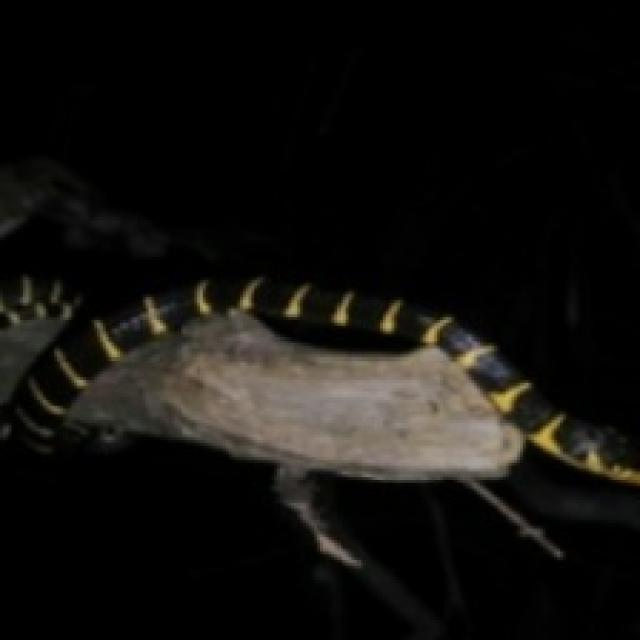mangrove cat snake: (0, 280, 640, 488), (0, 274, 81, 329)
